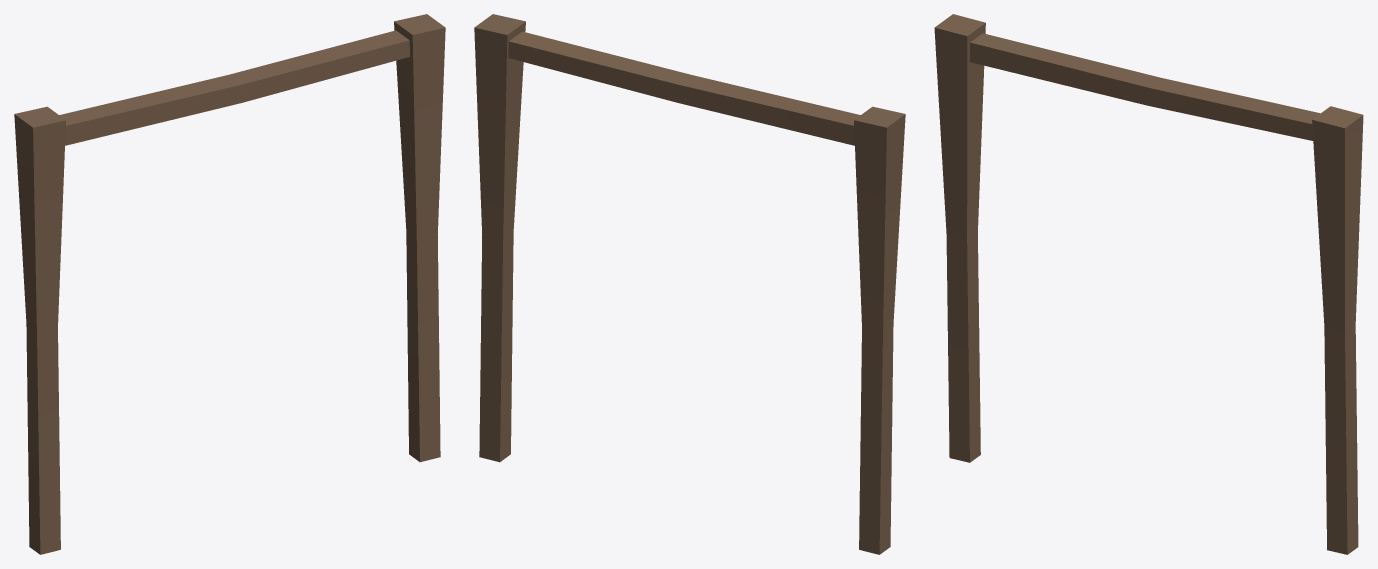
File: Flag Pole 3.FBX
The picture shows the model from 3 angles, left to right: view 1: azimuth 30°, elevation 25°; view 2: azimuth 150°, elevation 25°; view 3: azimuth 330°, elevation 25°; orthographic projection.
Parts seen in each view (by area): view 1: Flag Pole 3; view 2: Flag Pole 3; view 3: Flag Pole 3.
Boxes of the visible parts, x1,y1,x2,y2 form: Flag Pole 3: (14,14,445,554); Flag Pole 3: (474,14,905,554); Flag Pole 3: (934,14,1363,554).
Bounding box in the file's own units: 143 × 143 × 11.26.
